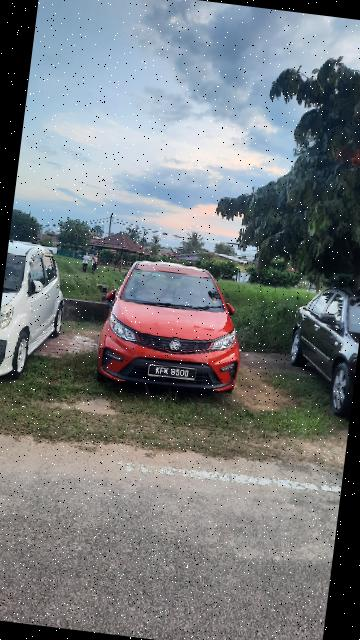License_Plate: (147, 361, 201, 385)
car: (87, 250, 264, 407)
